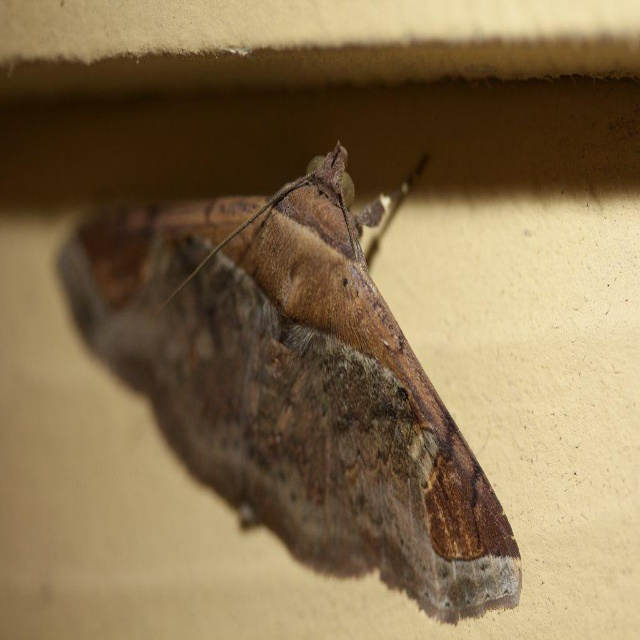Moths and butterflies: (48, 137, 527, 627)
